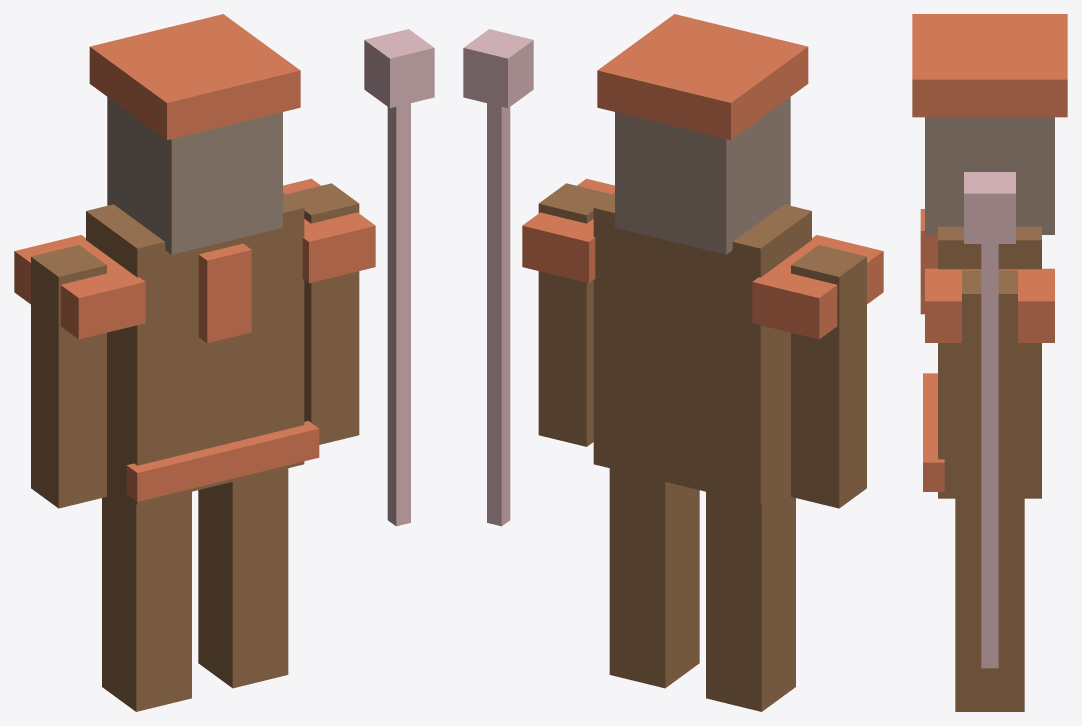
Rendered from 20_vexa_brightlock_watcher_at_dustline.glb.
The picture shows the model from 3 angles, left to right: view 1: azimuth 30°, elevation 25°; view 2: azimuth 150°, elevation 25°; view 3: azimuth 270°, elevation 25°; orthographic projection.
Parts seen in each view (by area): view 1: Vexa Brightlock, Watcher at Dustline; view 2: Vexa Brightlock, Watcher at Dustline; view 3: Vexa Brightlock, Watcher at Dustline.
Part boxes in pixels (x1,y1,x2,y2): Vexa Brightlock, Watcher at Dustline: (14, 14, 434, 711); Vexa Brightlock, Watcher at Dustline: (463, 14, 883, 711); Vexa Brightlock, Watcher at Dustline: (912, 14, 1067, 711).
Size of the model in its own units: 1.07 by 1.68 by 0.3783.
